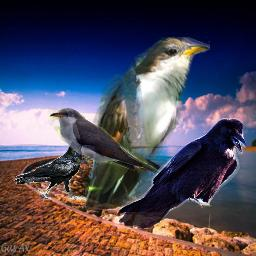Crow: (117, 118, 246, 229), (13, 138, 90, 200)
Cuckoo: (85, 37, 210, 210), (48, 108, 178, 186)
